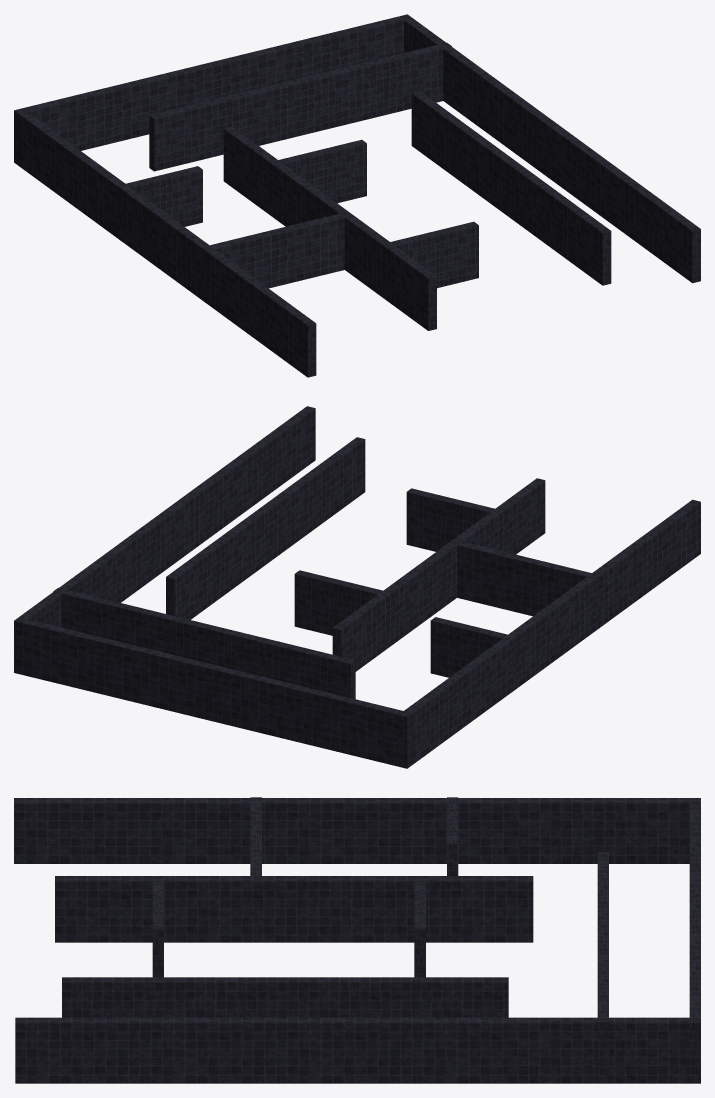
3 views of the same model, one above another, from view 1: azimuth 30°, elevation 25°; view 2: azimuth 150°, elevation 25°; view 3: azimuth 270°, elevation 25° (orthographic). The views are drawn at different scales.
Visible parts, largest first — view 1: pCube68, pCube18, pCube15, pCube9, pCube10, pCube12, pCube13, pCube11; view 2: pCube68, pCube15, pCube18, pCube9, pCube10, pCube13, pCube12, pCube11; view 3: pCube68, pCube9, pCube15, pCube18, pCube13, pCube12, pCube10, pCube11.
Boxes of the visible parts, x1,y1,x2,y2 form: pCube68: (14, 14, 700, 377); pCube18: (149, 42, 451, 171); pCube15: (411, 91, 611, 285); pCube9: (223, 126, 436, 330); pCube10: (201, 213, 344, 303); pCube12: (390, 221, 478, 288); pCube13: (278, 139, 366, 203); pCube11: (117, 166, 202, 241); pCube68: (14, 406, 700, 768); pCube15: (166, 437, 365, 619); pCube18: (53, 587, 355, 699); pCube9: (332, 478, 545, 671); pCube10: (457, 541, 599, 631); pCube13: (294, 570, 382, 635); pCube12: (406, 488, 494, 551); pCube11: (430, 617, 515, 692); pCube68: (14, 798, 700, 1083); pCube9: (55, 876, 533, 942); pCube15: (62, 977, 508, 1017); pCube18: (597, 852, 608, 1083); pCube13: (414, 881, 425, 977); pCube12: (152, 881, 163, 977); pCube10: (250, 797, 261, 875); pCube11: (447, 797, 458, 875).
Size of the model in its own units: 114 by 14.66 by 148.
2 materials, 2 textured.
